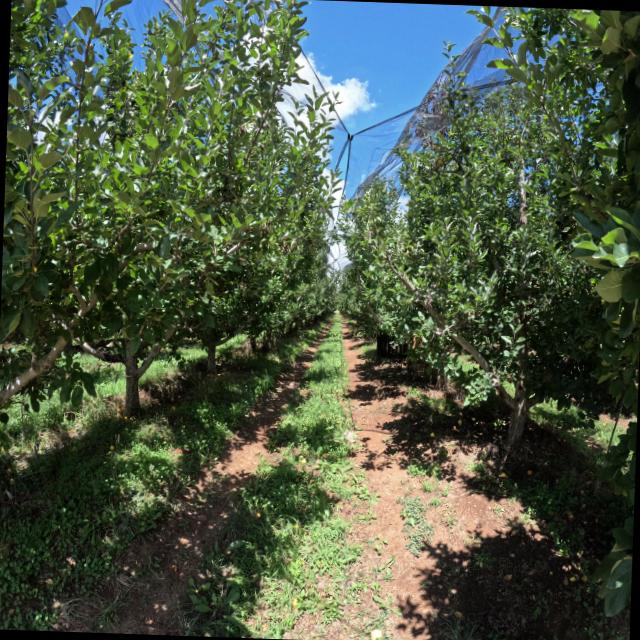-FireBlight-: (421, 137, 436, 153), (412, 333, 424, 349), (283, 242, 289, 252), (282, 235, 288, 240)
